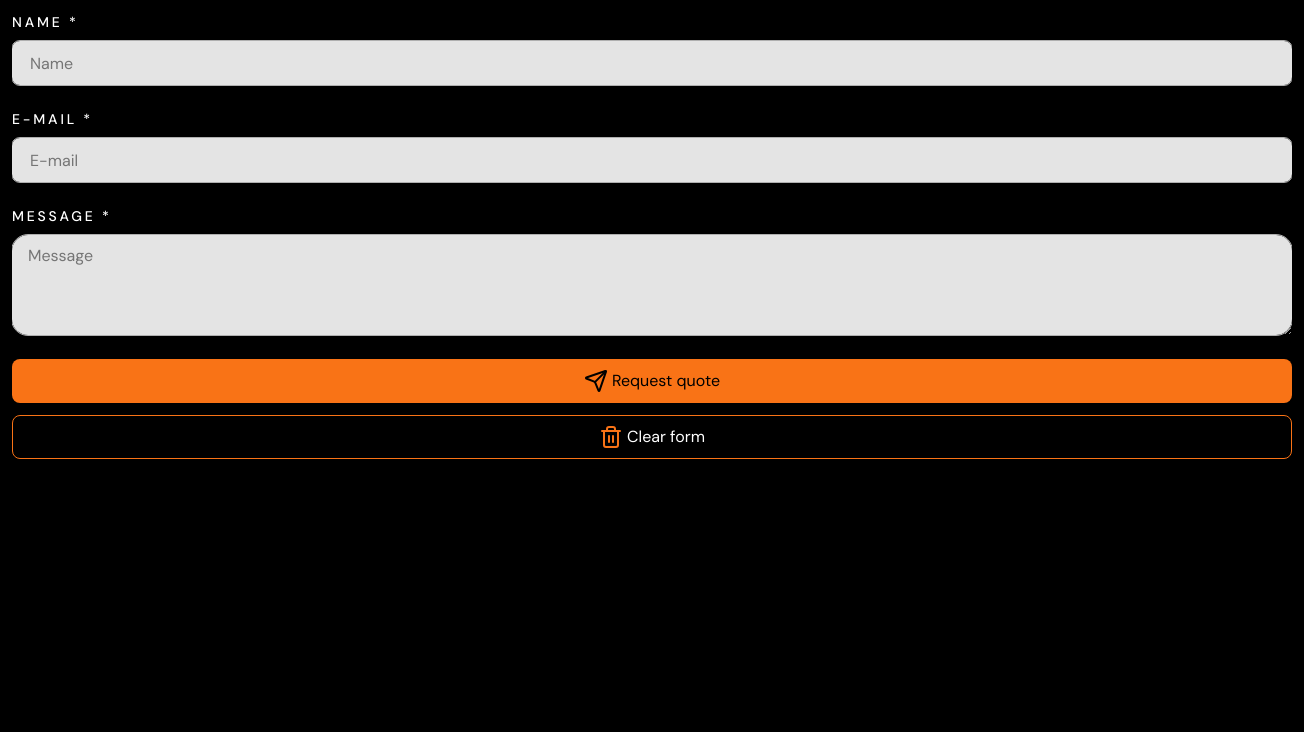
Test: Form › shows a success message and clears the fields after a valid submit
Type "Kalle Anka" into the field labelled "Name *" at (124, 63), box top-left (28, 41), bottom-right (220, 85)
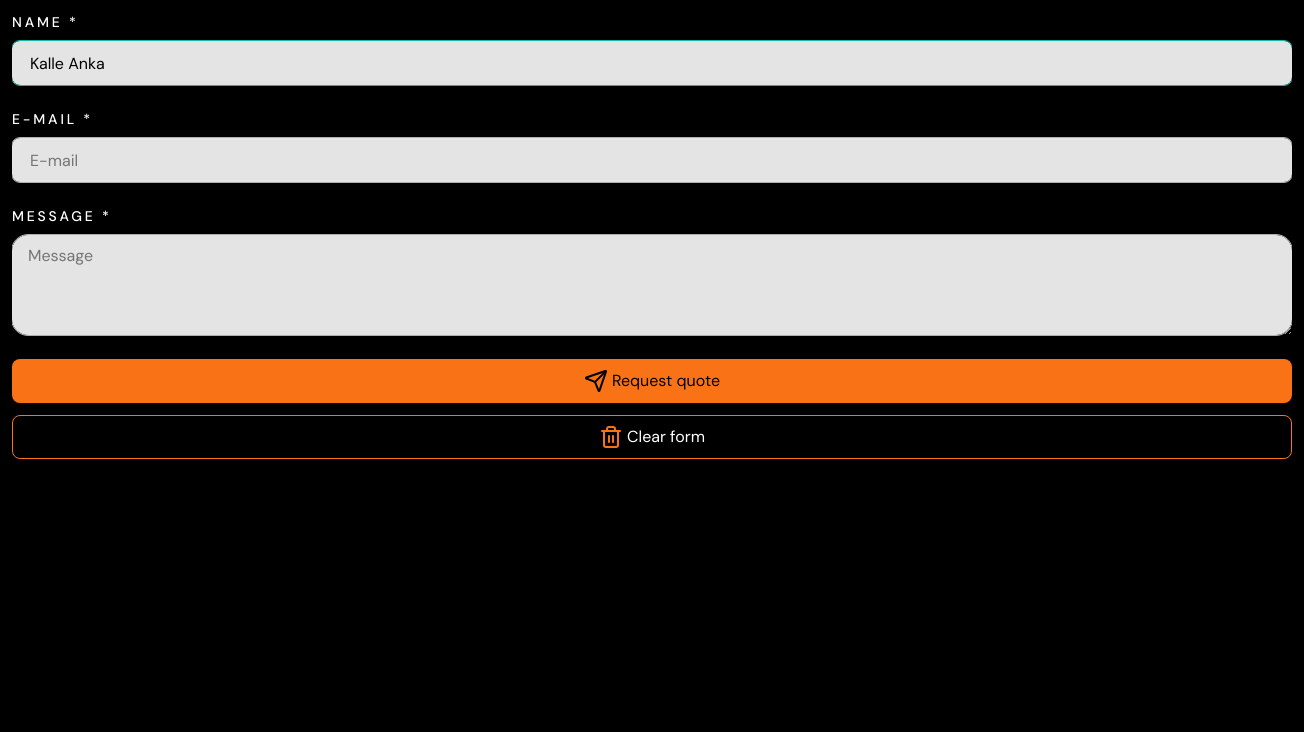
Type "kalle@example.com" into the field labelled "E-mail *" at (124, 160), box top-left (28, 138), bottom-right (220, 182)
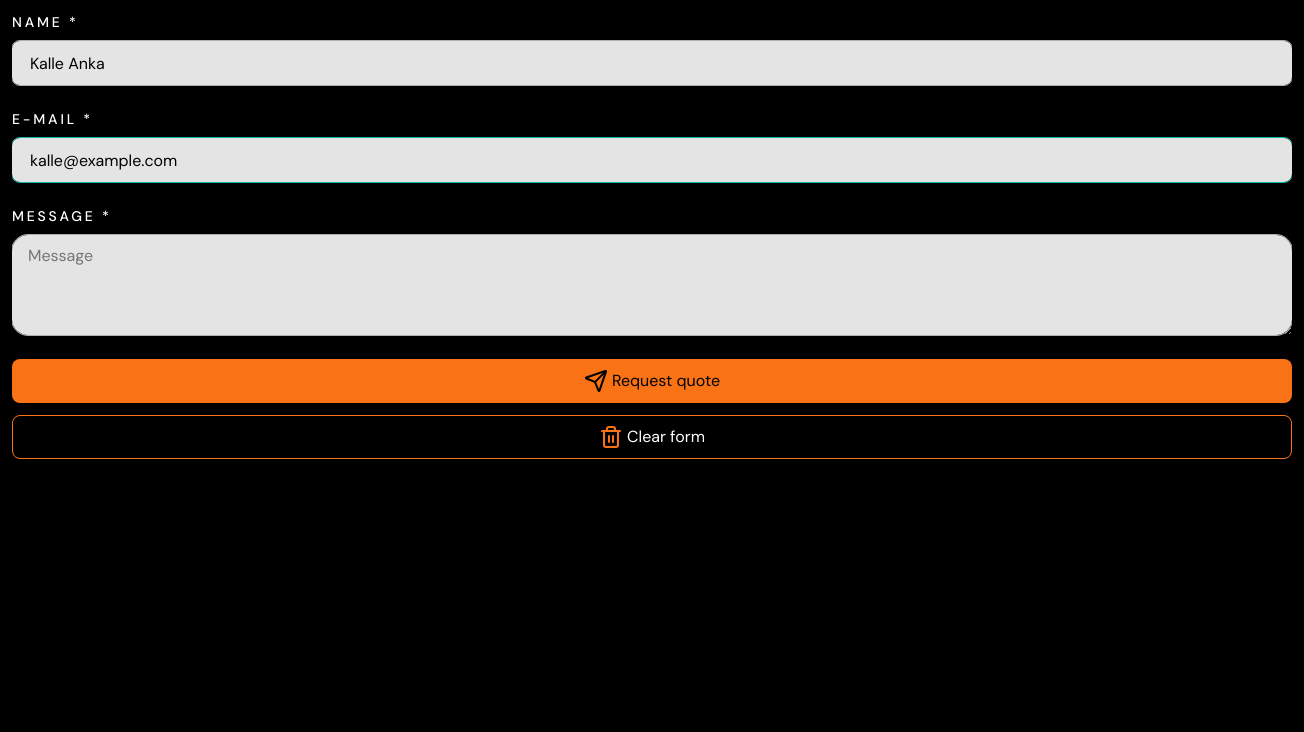
Type "Hej, jag vill ha en offert." into the text box labelled "Message *" at (652, 285), box top-left (12, 235), bottom-right (1292, 335)
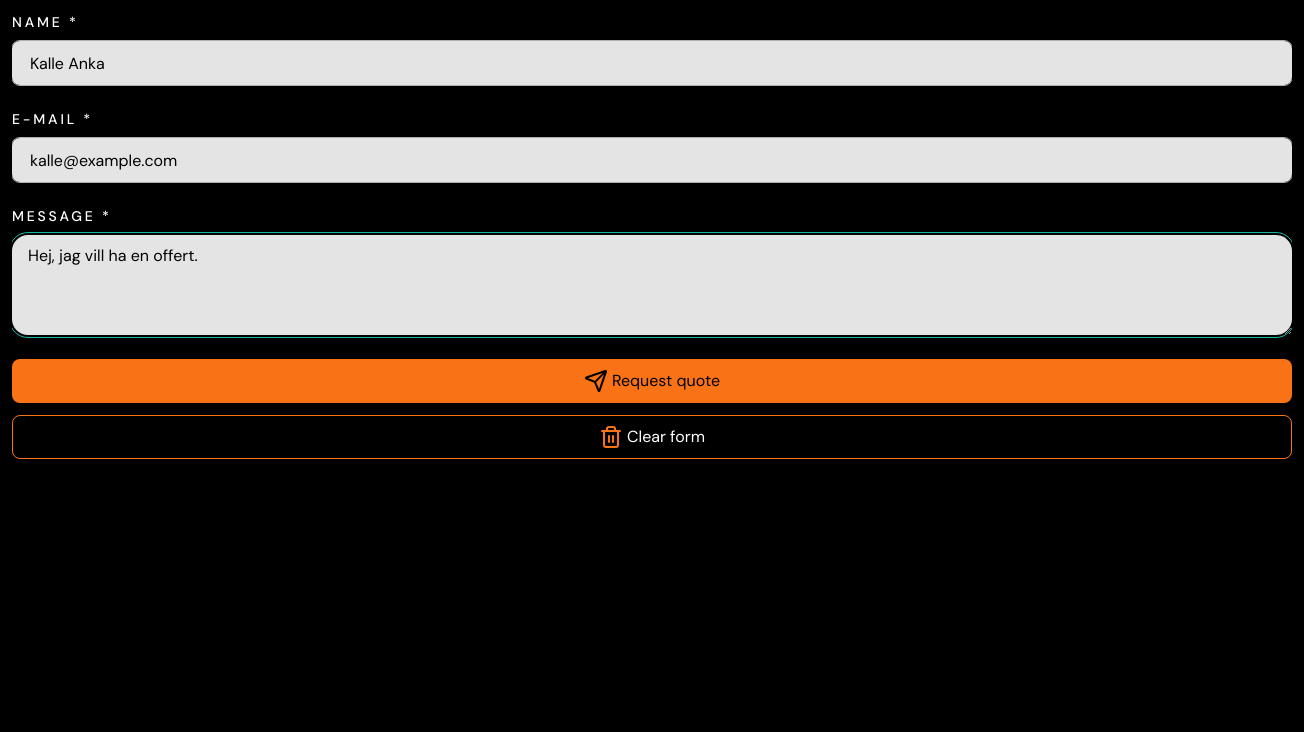
Click the button "Request quote" at (652, 381), box top-left (12, 359), bottom-right (1292, 403)
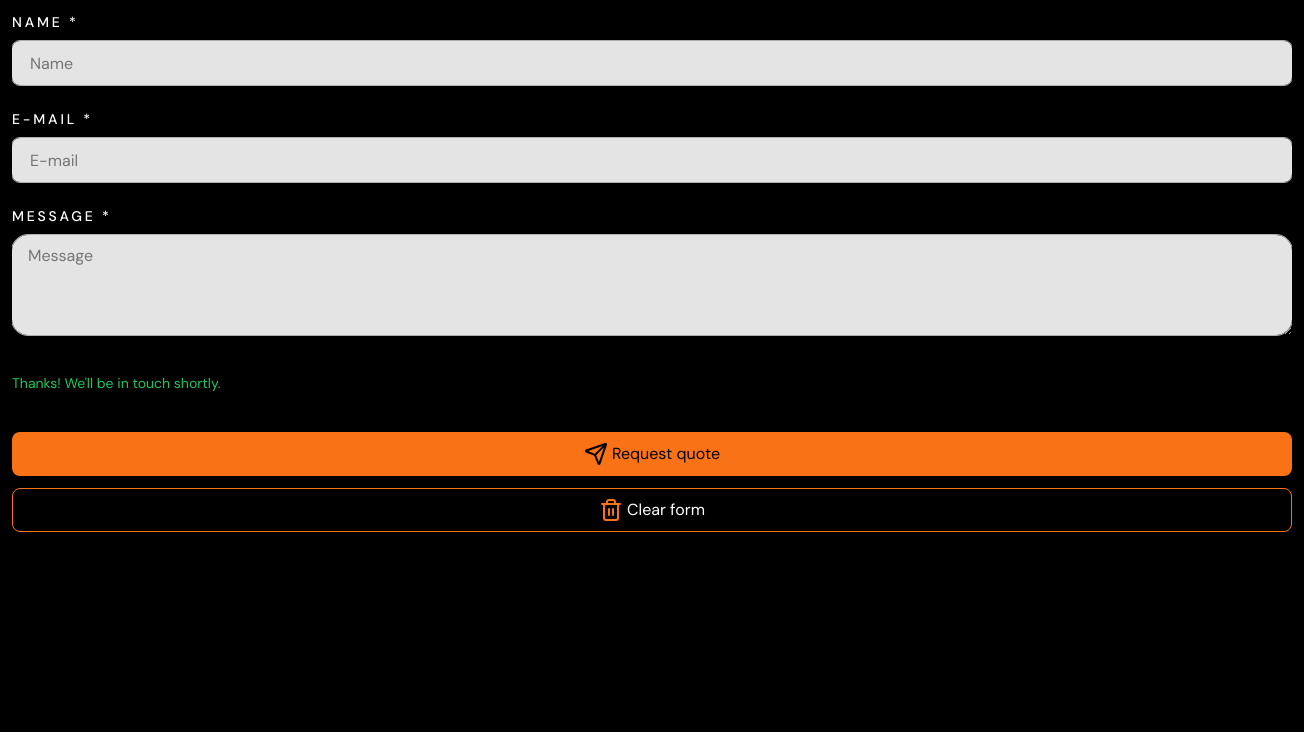
expect the text "Thanks! We'll be in touch shortly." is shown: met, box top-left (12, 374), bottom-right (220, 392)
expect the field labelled "Name *" is empty: met, box top-left (28, 41), bottom-right (220, 85)
expect the field labelled "E-mail *" is empty: met, box top-left (28, 138), bottom-right (220, 182)
